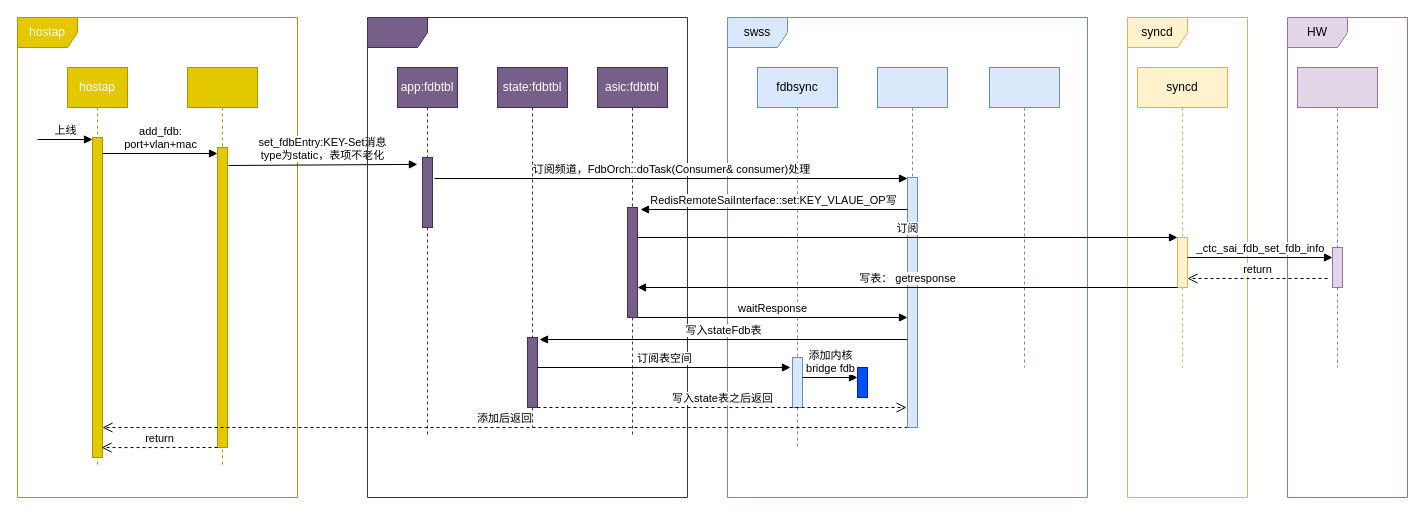
Image size: 1425x515. Some labels were removed from this diagram. Here are the shapes that lost their labels. From the top down, the box of each, then its label:
(988, 66, 1060, 368): aclorch
(1296, 66, 1378, 368): ASIC
(186, 66, 258, 468): dot1xsync
(366, 16, 688, 498): database
(876, 66, 948, 428): fdborch
